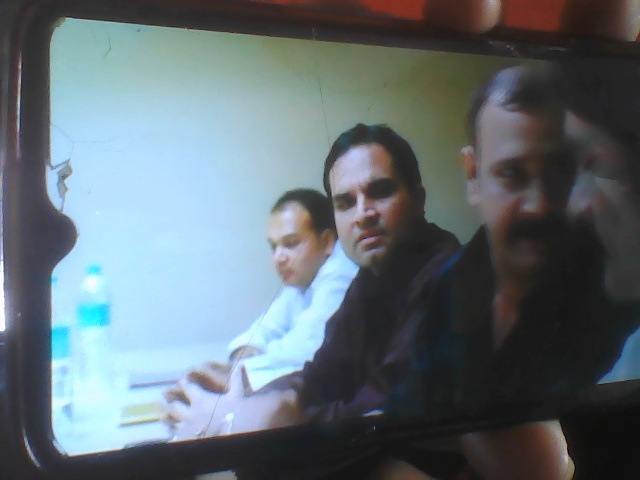fake: (315, 107, 437, 280)
